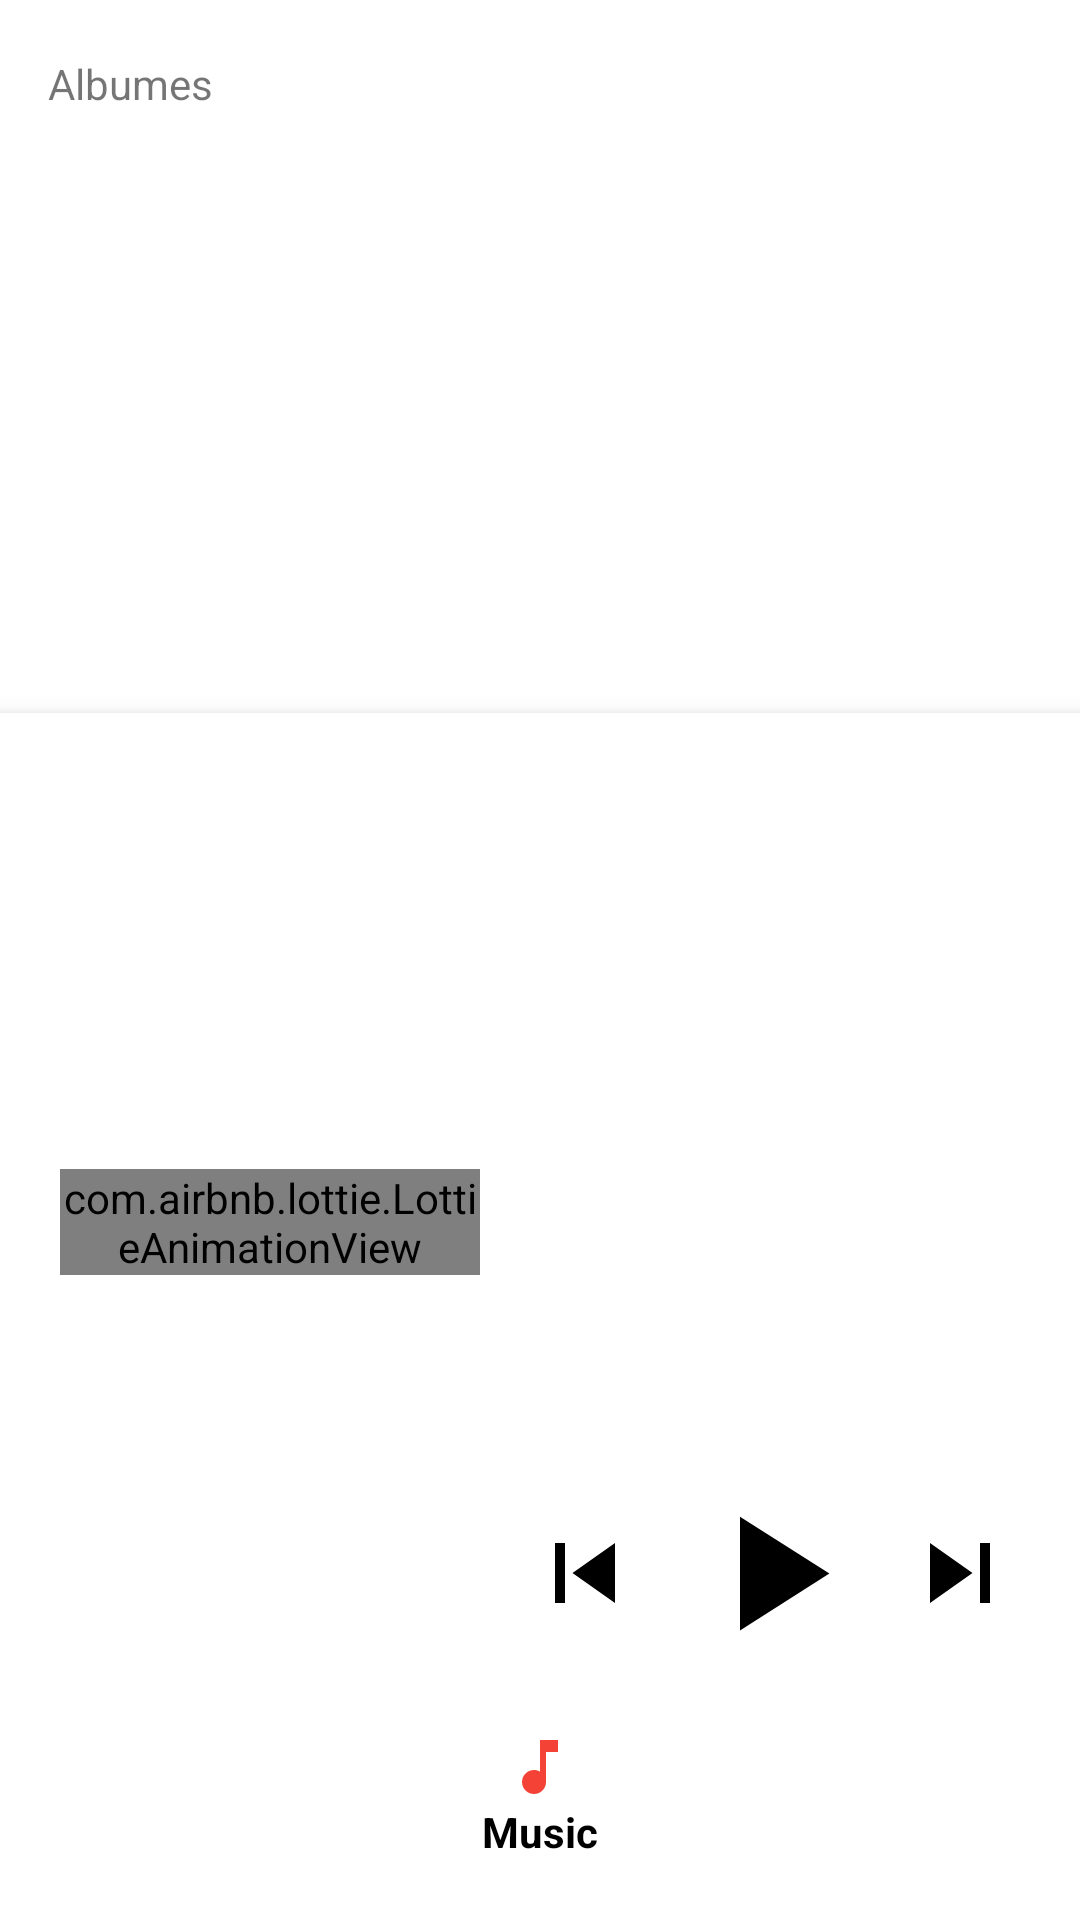

Icons on this 1080×1920 Android screen, each with its box as (x1, y1, x2, y2):
play arrow: (740, 1517, 829, 1631)
skip next: (930, 1543, 990, 1603)
skip previous: (555, 1543, 615, 1603)
